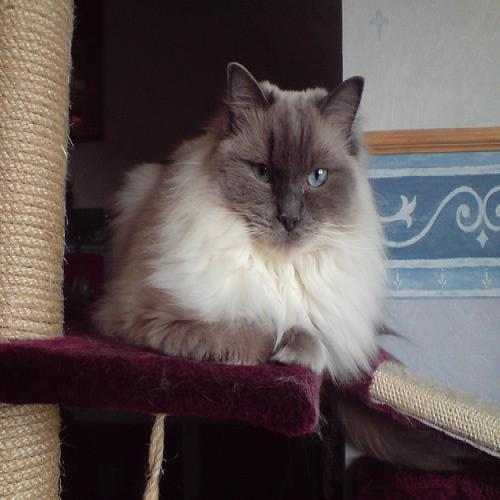ragdoll: (211, 53, 377, 253)
